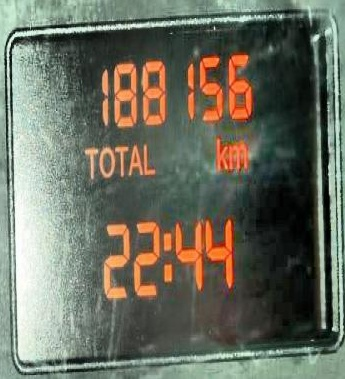1: (99, 64, 109, 126), (185, 61, 194, 119)
2: (101, 220, 130, 299), (132, 219, 160, 297), (141, 58, 166, 126), (113, 61, 137, 126)
4: (174, 218, 203, 290), (204, 218, 233, 289)
5: (198, 53, 222, 120)
6: (228, 52, 252, 118)
X: (227, 140, 248, 170), (161, 228, 172, 283), (98, 145, 115, 179), (127, 144, 143, 178), (113, 144, 128, 178), (84, 145, 98, 179), (141, 141, 155, 175), (214, 135, 227, 170)
